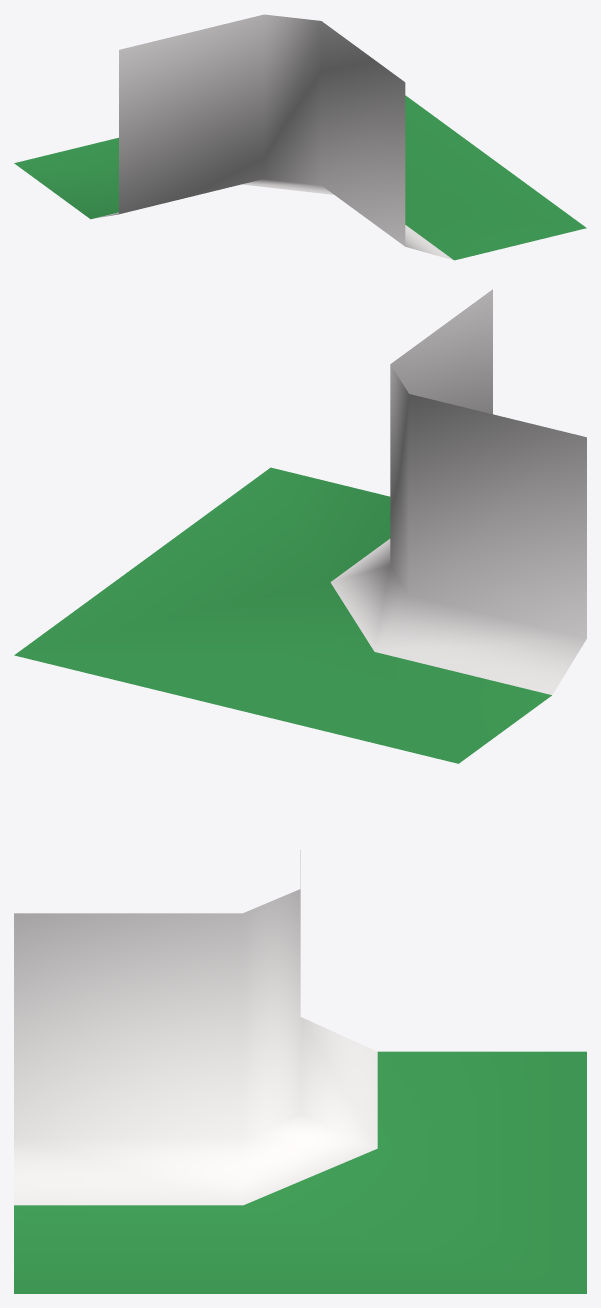
Rendered from CliffStem_OuterBend.fbx.
3 views of the same model, one above another, from view 1: azimuth 30°, elevation 25°; view 2: azimuth 150°, elevation 25°; view 3: azimuth 270°, elevation 25° (orthographic). The views are drawn at different scales.
Parts seen in each view (by area): view 1: CliffStem_OuterBend.001; view 2: CliffStem_OuterBend.001; view 3: CliffStem_OuterBend.001.
Boxes of the visible parts, x1=… form: CliffStem_OuterBend.001: x1=14, y1=14, x2=586, y2=260; CliffStem_OuterBend.001: x1=14, y1=289, x2=586, y2=763; CliffStem_OuterBend.001: x1=14, y1=850, x2=586, y2=1293.
Bounding box in the file's own units: 10 × 10 × 5.
